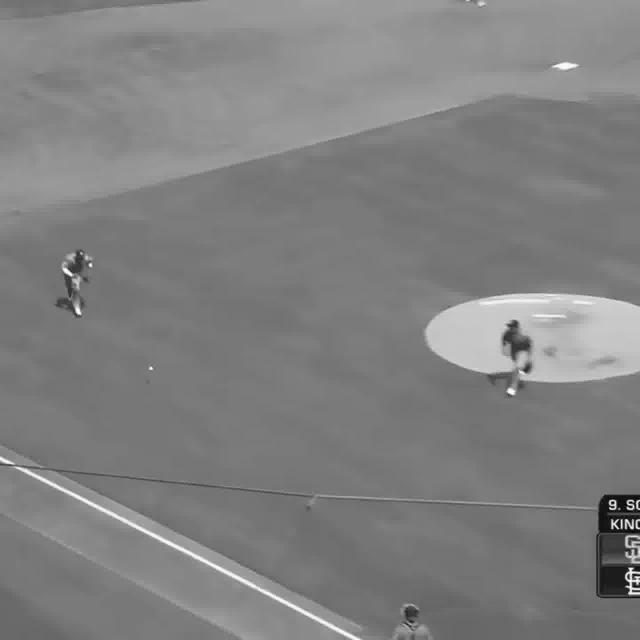base: (549, 61, 582, 70)
baseball: (149, 366, 154, 371)
baseball_glove: (519, 360, 533, 376)
shoe: (506, 388, 516, 398), (74, 307, 83, 317)
